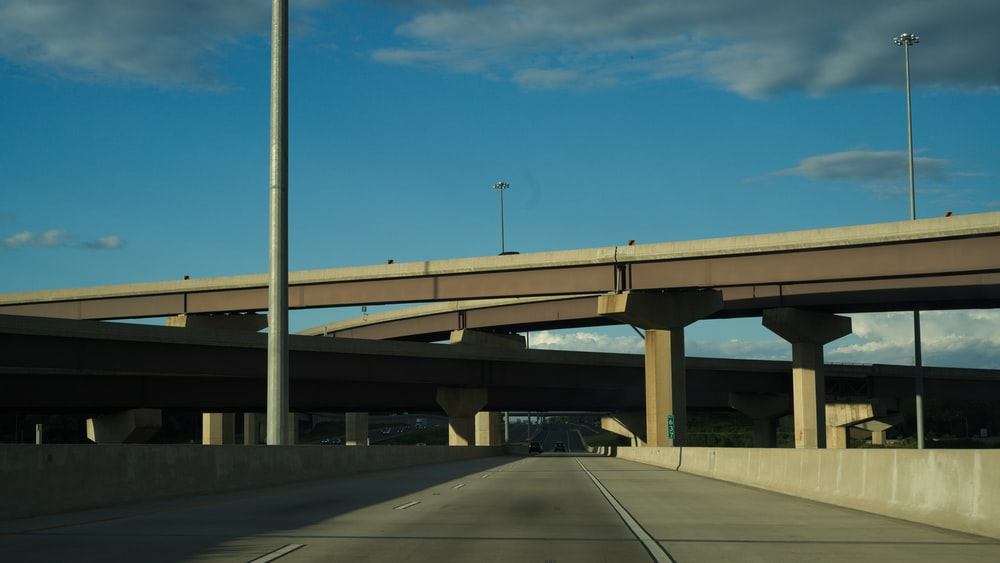bridge: (1, 209, 1000, 314)
